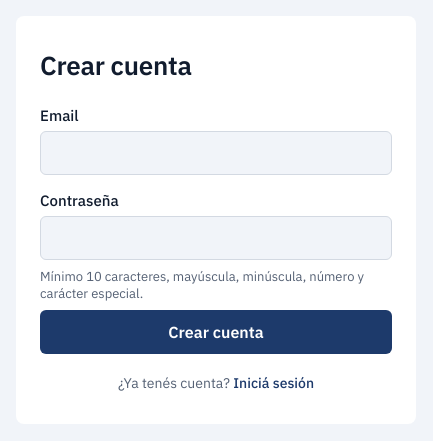
Test: RegisterPage › disables submit button while loading
In the field labelled "Email": x=216, y=153 [40,131,392,175], type "facu@nutriplan.uy"
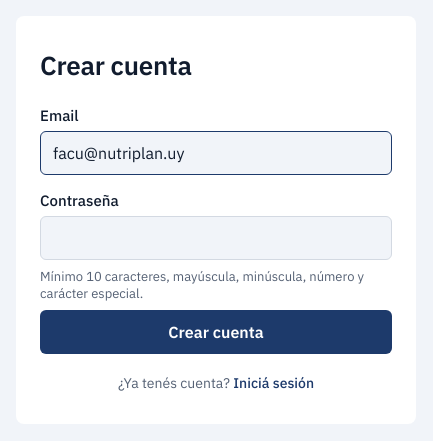
In the password field labelled "Contraseña": x=216, y=238 [40,216,392,260], type "Segura1234!"
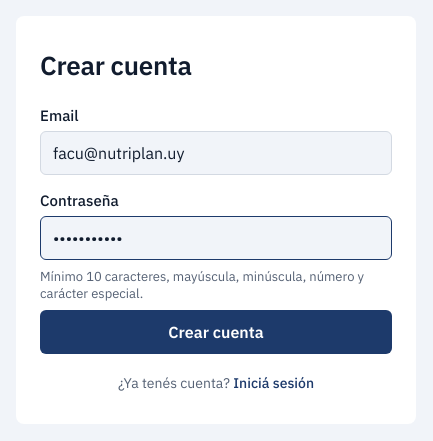
Click the button "Crear cuenta": x=216, y=332 [40,310,392,354]
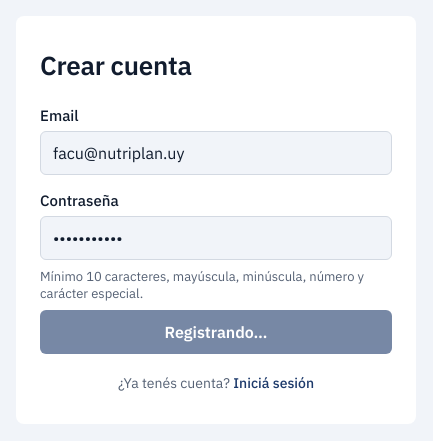
Expected: the button "Registrando…" is disabled, [40,310,392,354]
